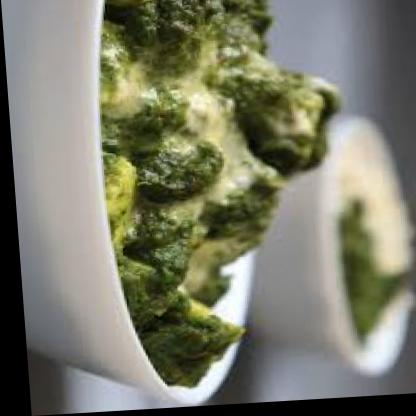palak_paneer: (89, 0, 356, 394)
